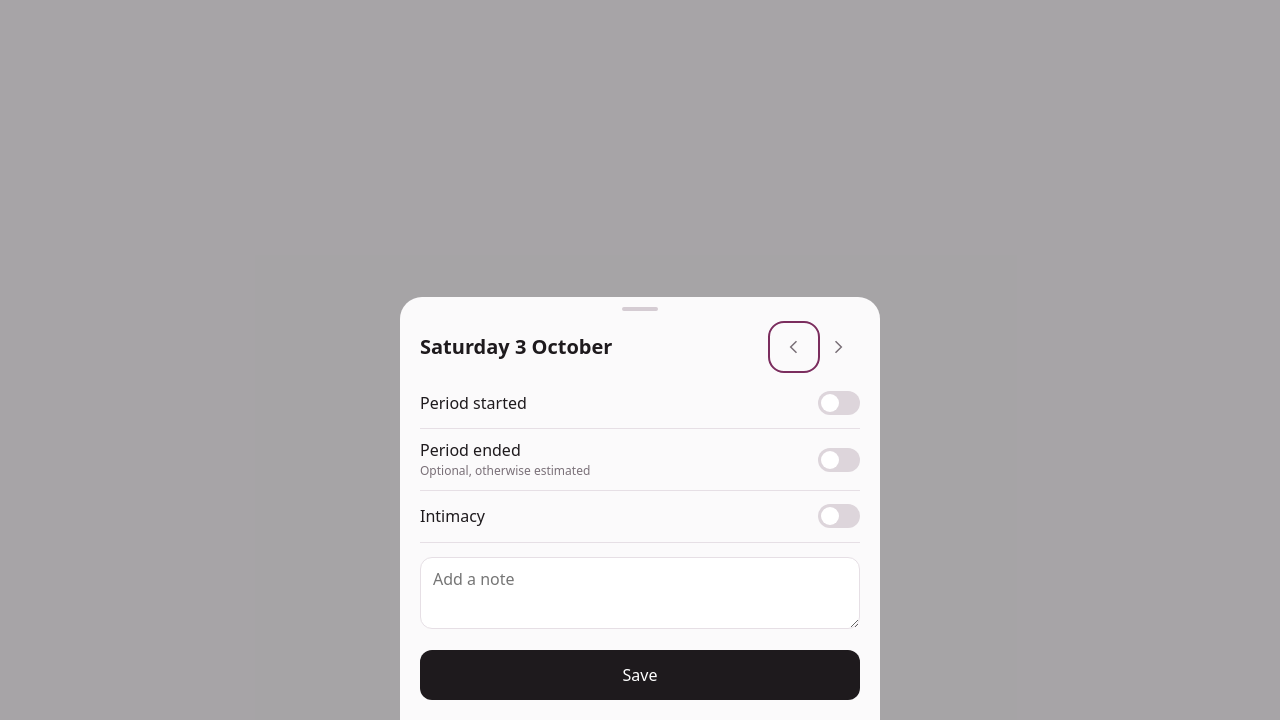
Test case: LogSheet › warns when a new period start is close to another
The image size is (1280, 720).
Click the switch labelled "Period started" at (473, 403), box [420,377,860,429]
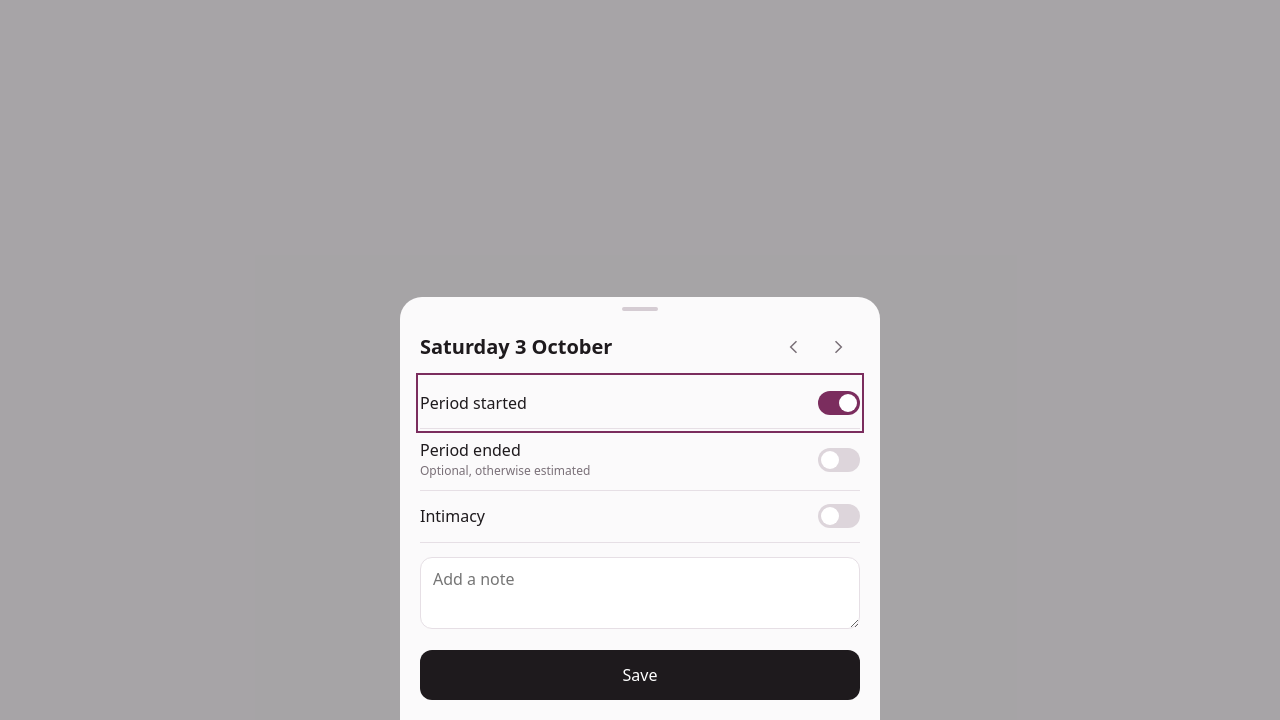
Click the button "Save" at (640, 675), box [420,650,860,700]
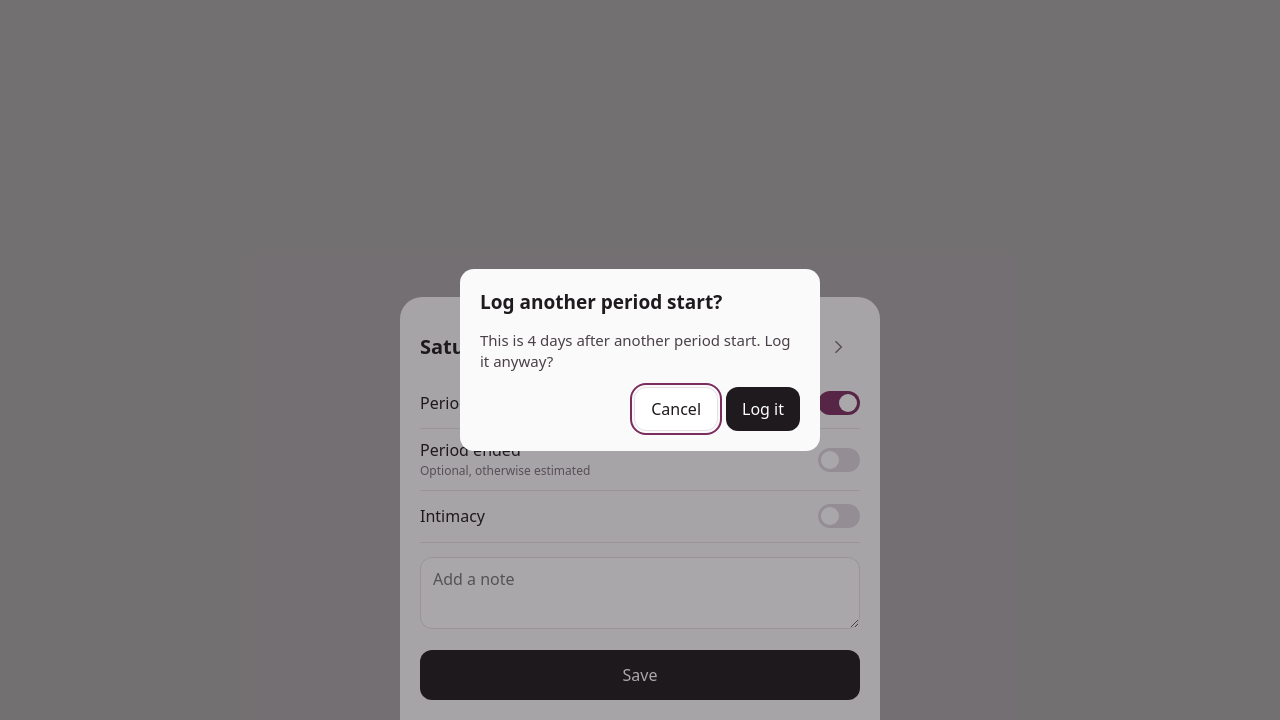
Expected: the text "This is 4 days after another period start. Log it anyway?" is shown, [480,330,800,373]
